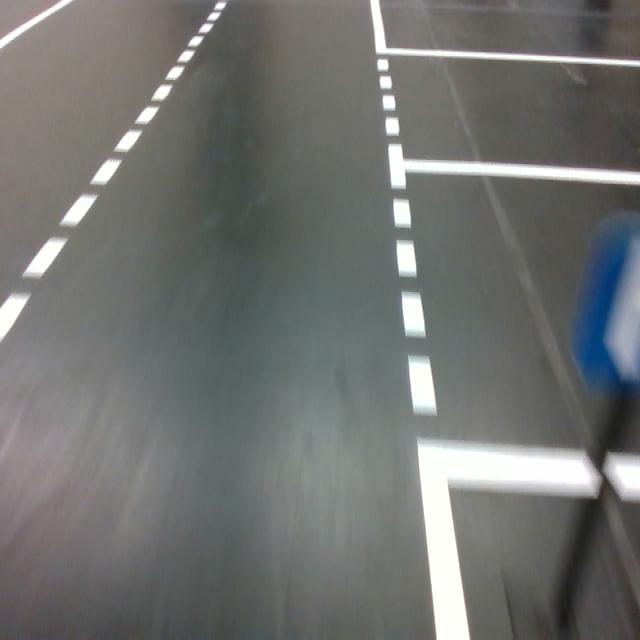parking-sign: (571, 210, 640, 394)
